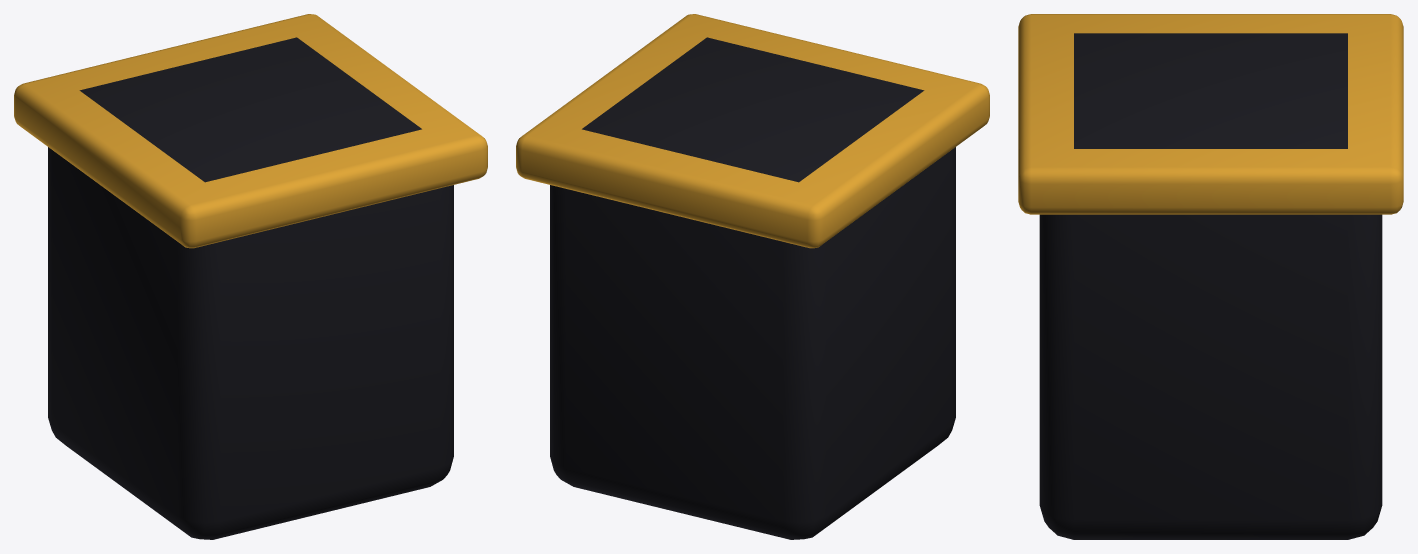
File: cannon_base.glb
3 renders of one model, left to right at view 1: azimuth 30°, elevation 25°; view 2: azimuth 150°, elevation 25°; view 3: azimuth 270°, elevation 25°, orthographic. The views are drawn at different scales.
Parts seen in each view (by area): view 1: base, trim; view 2: base, trim; view 3: base, trim.
Boxes of the visible parts, left/top/right/bottom form: base: left=48, top=37, right=453, bottom=539; trim: left=14, top=14, right=487, bottom=248; base: left=550, top=37, right=955, bottom=539; trim: left=516, top=14, right=989, bottom=248; base: left=1039, top=33, right=1382, bottom=539; trim: left=1018, top=14, right=1403, bottom=214.
Size of the model in its own units: 0.9 by 1 by 0.9.
